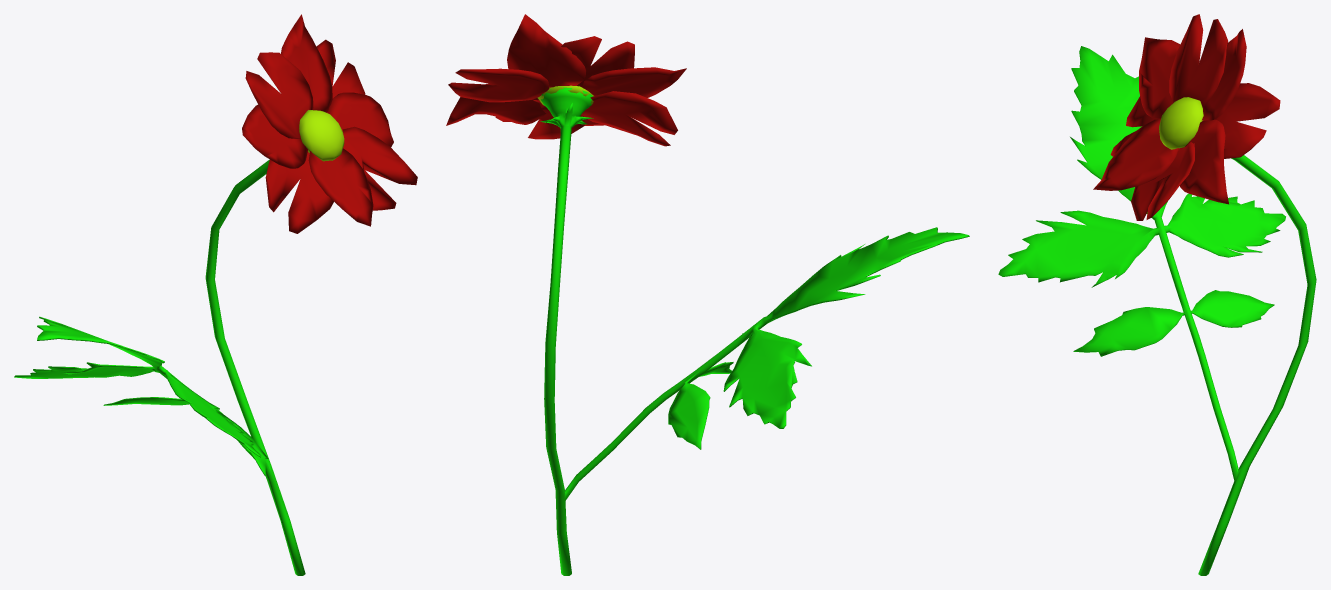
The model's file is Dahlie_LP_3.fbx.
3 views of the same model, side by side, from view 1: azimuth 30°, elevation 25°; view 2: azimuth 150°, elevation 25°; view 3: azimuth 270°, elevation 25° (orthographic). The views are drawn at different scales.
Visible parts, largest first — view 1: Dahlie_LP; view 2: Dahlie_LP; view 3: Dahlie_LP.
Boxes of the visible parts, bbox=[...] form: Dahlie_LP: bbox=[14, 14, 417, 575]; Dahlie_LP: bbox=[446, 14, 969, 575]; Dahlie_LP: bbox=[998, 14, 1316, 575].
Bounding box in the file's own units: 140 × 170 × 88.1.
